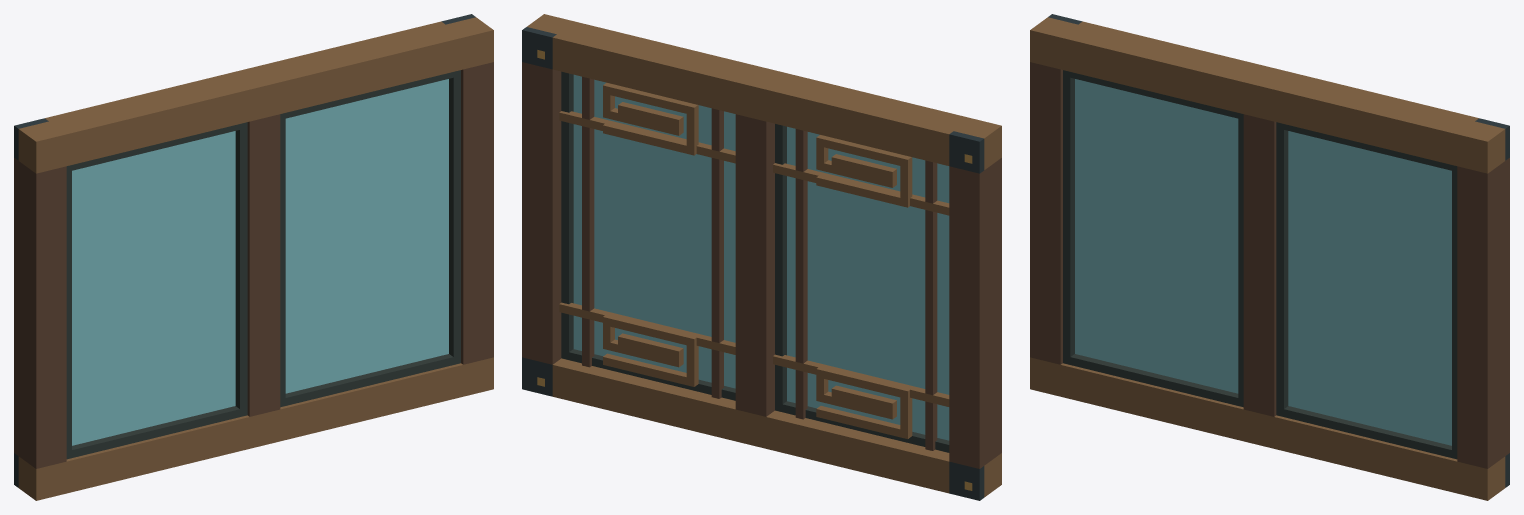
The picture shows the model from 3 angles, left to right: view 1: azimuth 30°, elevation 25°; view 2: azimuth 150°, elevation 25°; view 3: azimuth 330°, elevation 25°; orthographic projection.
Visible parts, largest first — view 1: 精细体素木窗棂视觉母版; view 2: 精细体素木窗棂视觉母版; view 3: 精细体素木窗棂视觉母版.
Part boxes in pixels (bbox=[...]): 精细体素木窗棂视觉母版: bbox=[14, 14, 493, 500]; 精细体素木窗棂视觉母版: bbox=[522, 14, 1001, 500]; 精细体素木窗棂视觉母版: bbox=[1030, 14, 1509, 500].
Bounding box in the file's own units: 2.4 × 1.8 × 0.2.
6 materials, 6 textured.
